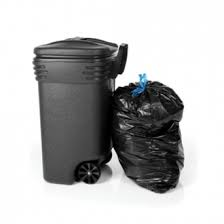Trash: (111, 81, 189, 194)
